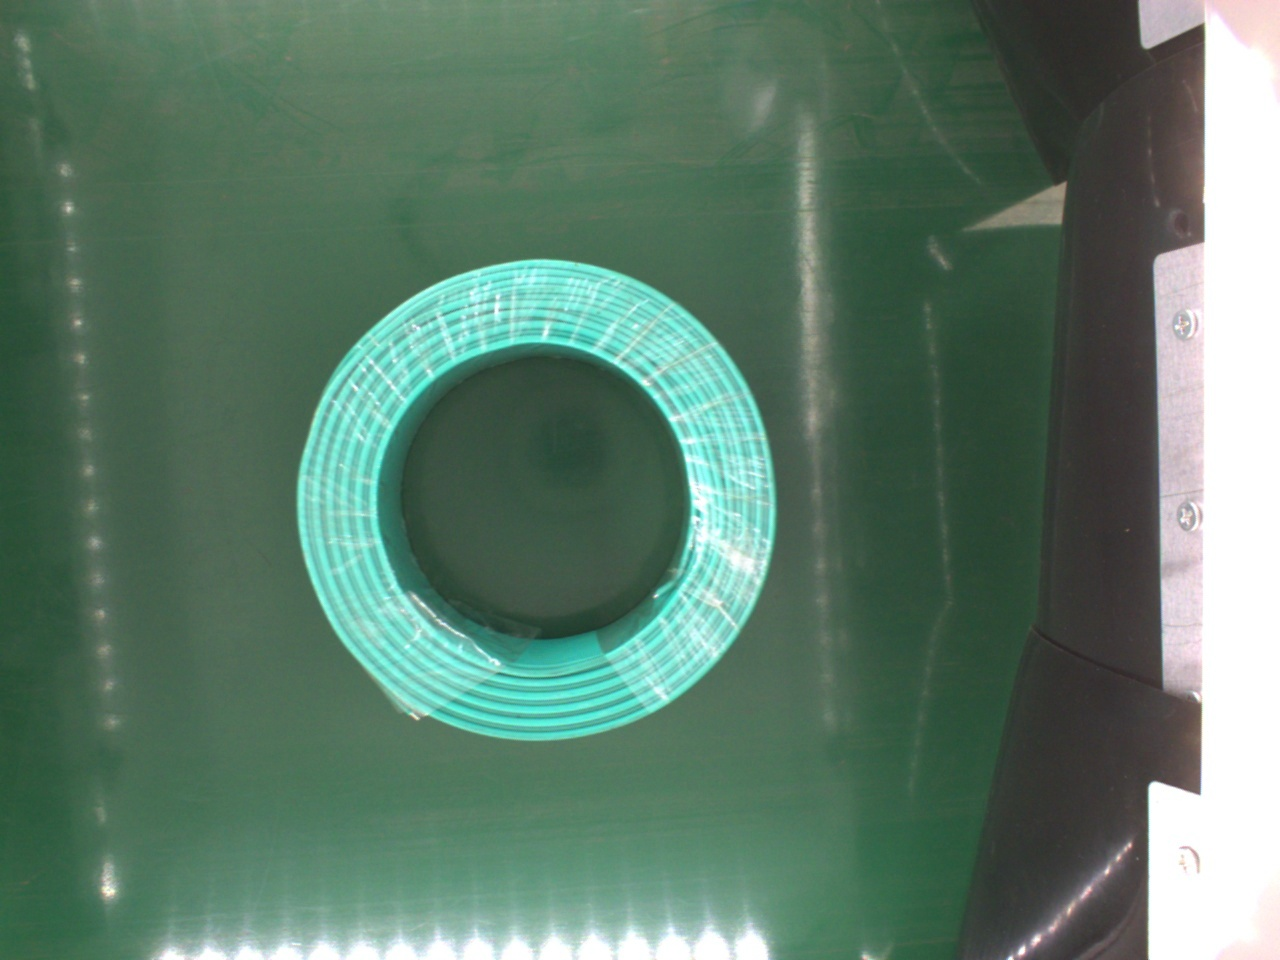green: (289, 253, 784, 745)
